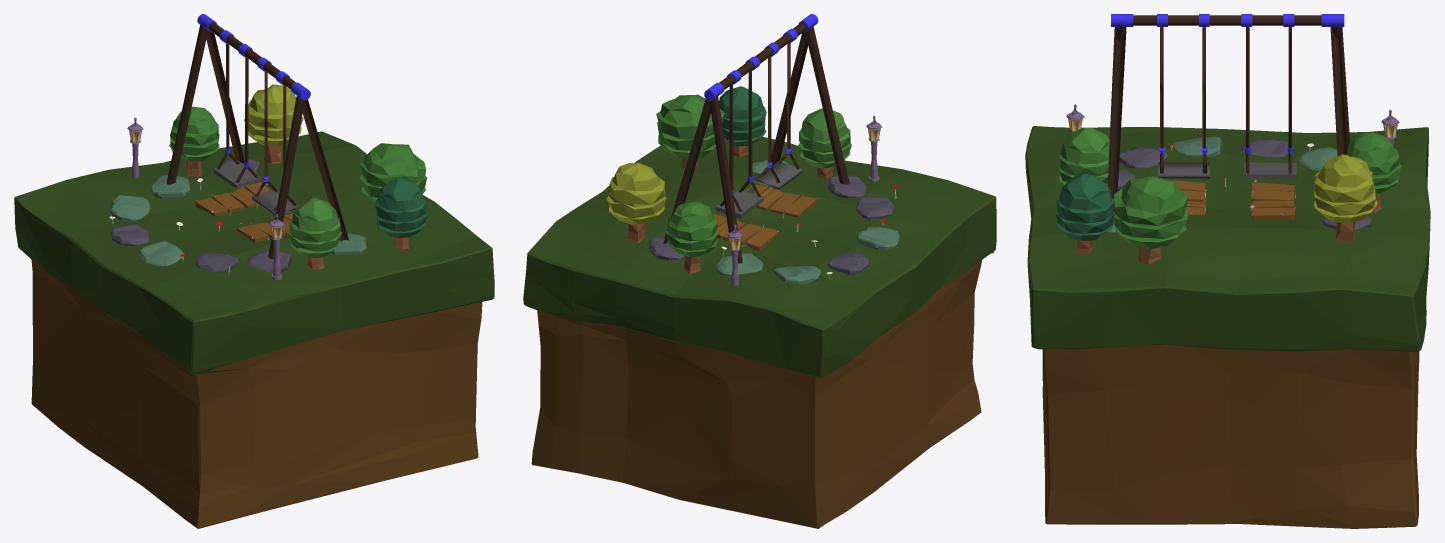
File: tile_swings.min.gltf
The picture shows the model from 3 angles, left to right: view 1: azimuth 30°, elevation 25°; view 2: azimuth 150°, elevation 25°; view 3: azimuth 270°, elevation 25°; orthographic projection. The views are drawn at different scales.
Visible parts, largest first — view 1: CENTERED.004, Cylinder.011, Circle.001, Circle.002, Circle.006, Circle.004, Circle, Cylinder.031, Cylinder.034, Box001.015, Box001.017, Box001.014 (+3 smaller); view 2: CENTERED.004, Cylinder.011, Circle.004, Circle.006, Circle, Circle.001, Circle.002, Cylinder.034, Cylinder.031, Box001.017, Box001.015, Box001.018 (+4 smaller); view 3: CENTERED.004, Cylinder.011, Circle.006, Circle.004, Circle.002, Circle.001, Circle, Cylinder.031, Cylinder.034, Box001.018, Box001.017, Box001.016 (+2 smaller).
Boxes of the visible parts, x1=… form: CENTERED.004: x1=14, y1=131, x2=494, y2=528; Cylinder.011: x1=166, y1=14, x2=348, y2=259; Circle.001: x1=289, y1=198, x2=342, y2=269; Circle.002: x1=375, y1=178, x2=426, y2=249; Circle.006: x1=359, y1=143, x2=426, y2=202; Circle.004: x1=244, y1=84, x2=303, y2=163; Circle: x1=169, y1=106, x2=219, y2=176; Cylinder.031: x1=213, y1=44, x2=261, y2=188; Cylinder.034: x1=252, y1=72, x2=298, y2=216; Box001.015: x1=110, y1=195, x2=150, y2=221; Box001.017: x1=140, y1=241, x2=184, y2=266; Box001.014: x1=150, y1=175, x2=190, y2=199; CENTERED.004: x1=523, y1=137, x2=996, y2=528; Cylinder.011: x1=663, y1=14, x2=849, y2=263; Circle.004: x1=606, y1=163, x2=666, y2=243; Circle.006: x1=656, y1=94, x2=724, y2=169; Circle: x1=665, y1=201, x2=718, y2=273; Circle.001: x1=798, y1=108, x2=851, y2=178; Circle.002: x1=719, y1=86, x2=766, y2=156; Cylinder.034: x1=754, y1=43, x2=802, y2=189; Cylinder.031: x1=715, y1=71, x2=763, y2=218; Box001.017: x1=856, y1=227, x2=899, y2=250; Box001.015: x1=774, y1=266, x2=821, y2=283; Box001.018: x1=855, y1=197, x2=894, y2=220; CENTERED.004: x1=1025, y1=126, x2=1430, y2=528; Cylinder.011: x1=1107, y1=14, x2=1349, y2=220; Circle.006: x1=1113, y1=176, x2=1188, y2=264; Circle.004: x1=1314, y1=154, x2=1377, y2=243; Circle.002: x1=1055, y1=173, x2=1114, y2=254; Circle.001: x1=1059, y1=127, x2=1109, y2=185; Circle: x1=1346, y1=132, x2=1401, y2=213; Cylinder.031: x1=1244, y1=26, x2=1296, y2=178; Cylinder.034: x1=1158, y1=26, x2=1209, y2=178; Box001.018: x1=1119, y1=147, x2=1168, y2=168; Box001.017: x1=1172, y1=136, x2=1222, y2=156; Box001.016: x1=1241, y1=139, x2=1288, y2=157.
Bounding box in the file's own units: 1.07 × 1.29 × 1.09.
